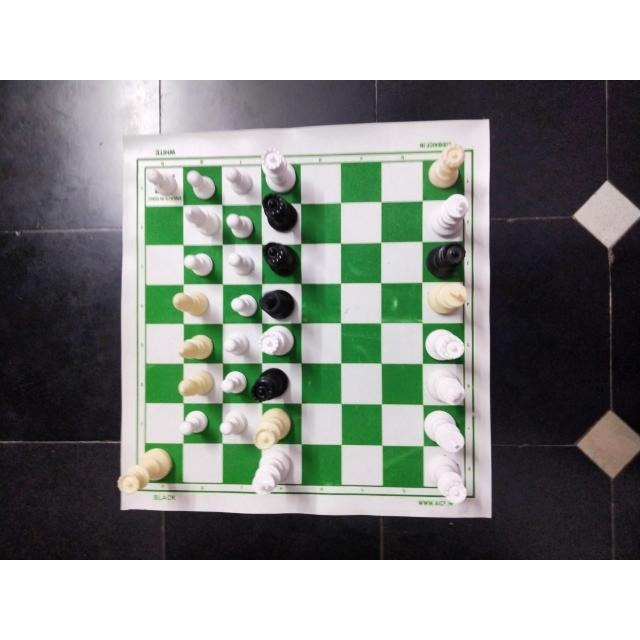black-king: (259, 284, 301, 318)
black-queen: (416, 242, 467, 278), (260, 189, 300, 228), (252, 367, 292, 401), (259, 242, 295, 270)
white-bishop: (175, 367, 215, 398), (176, 331, 216, 361), (186, 207, 220, 239), (172, 290, 214, 313)
white-king: (423, 405, 467, 455), (424, 195, 470, 237), (250, 453, 294, 493), (425, 367, 469, 405), (426, 281, 469, 316)
white-pawn: (216, 368, 248, 403), (222, 163, 254, 197), (140, 165, 174, 195), (218, 408, 249, 440), (178, 408, 210, 439), (183, 167, 213, 199), (181, 249, 214, 277), (223, 330, 255, 358), (227, 251, 255, 281), (226, 209, 254, 238), (233, 296, 258, 324)
white-queen: (118, 447, 178, 495), (427, 454, 470, 508), (256, 148, 300, 192), (428, 143, 464, 190), (251, 413, 297, 447), (425, 324, 463, 361), (255, 324, 295, 357)
